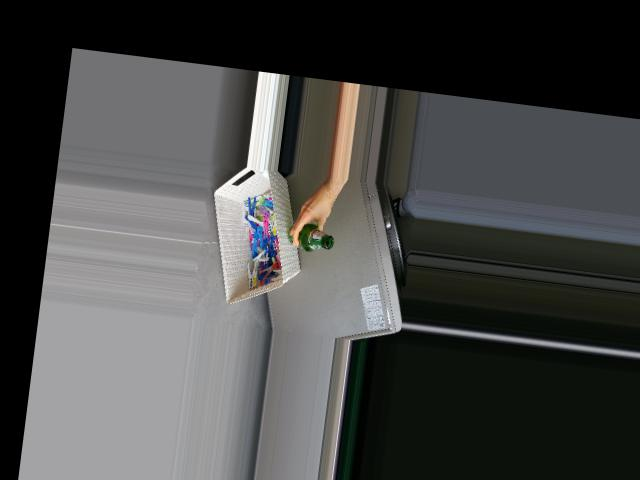beer: (287, 221, 336, 254)
